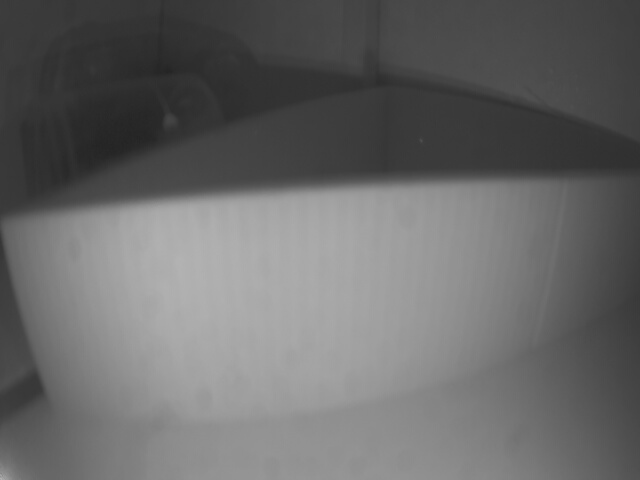Point: (21, 177, 639, 430)
